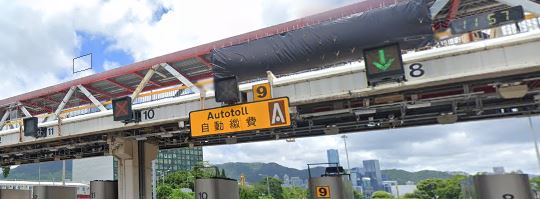Autotoll: (187, 96, 289, 137)
